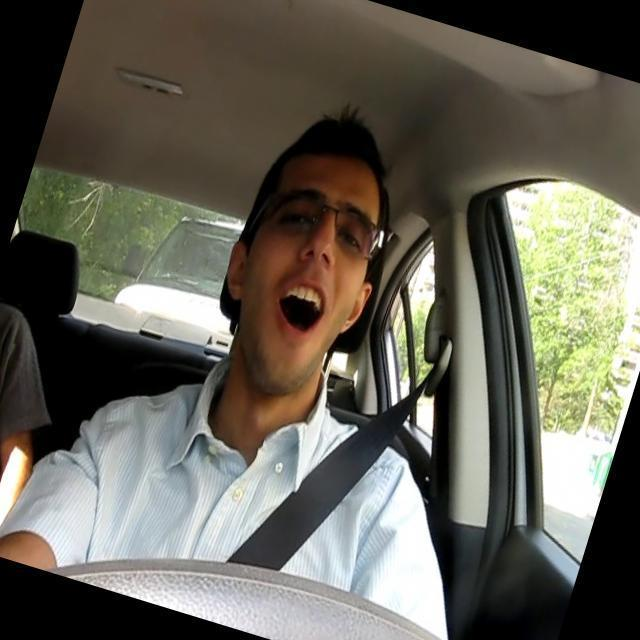open-mouth: (276, 277, 328, 342)
